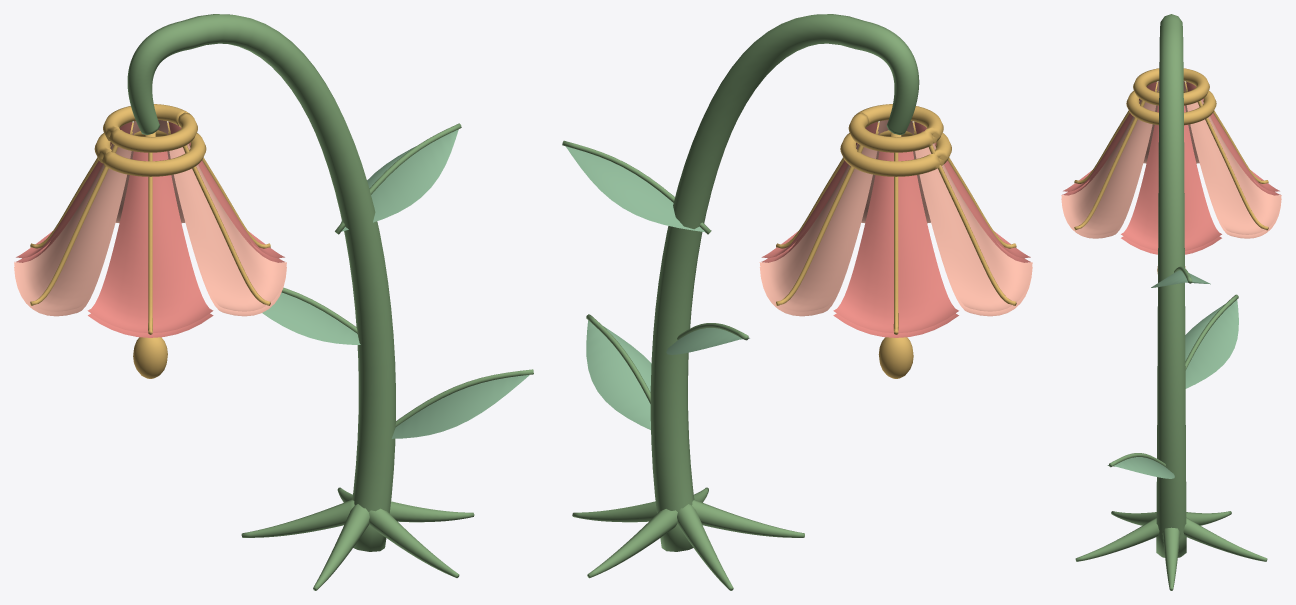
The model's file is bell-flower.glb.
3 renders of one model, left to right at view 1: azimuth 30°, elevation 25°; view 2: azimuth 150°, elevation 25°; view 3: azimuth 270°, elevation 25°, orthographic. The views are drawn at different scales.
Visible parts, largest first — view 1: Arching living stem, Flower petal 04, Flower petal 03, Flower petal 05, Stem leaf 02, Stem leaf 00, Crown collar, Stem leaf 01, Crown collar.001, Root 02, Root 04, Root 03 (+9 smaller); view 2: Arching living stem, Flower petal 02, Flower petal 03, Flower petal 01, Stem leaf 00, Stem leaf 02, Crown collar, Crown collar.001, Root 03, Root 01, Root 02, Golden clapper (+10 smaller); view 3: Arching living stem, Flower petal 05, Flower petal 01, Flower petal 00, Stem leaf 01, Crown collar, Crown collar.001, Root 01, Root 04, Root 00, Flower petal 02, Flower petal 04 (+8 smaller).
Boxes of the visible parts, left/top/right/bottom form: Arching living stem: left=127, top=14, right=395, bottom=551; Flower petal 04: left=87, top=151, right=213, bottom=337; Flower petal 03: left=14, top=144, right=131, bottom=316; Flower petal 05: left=169, top=144, right=286, bottom=316; Stem leaf 02: left=340, top=129, right=458, bottom=231; Stem leaf 00: left=391, top=374, right=529, bottom=438; Crown collar: left=103, top=104, right=197, bottom=152; Stem leaf 01: left=262, top=292, right=360, bottom=344; Crown collar.001: left=94, top=122, right=206, bottom=176; Root 02: left=241, top=499, right=354, bottom=537; Root 04: left=369, top=508, right=459, bottom=577; Root 03: left=313, top=504, right=369, bottom=590; Arching living stem: left=650, top=14, right=919, bottom=551; Flower petal 02: left=833, top=151, right=958, bottom=337; Flower petal 03: left=915, top=143, right=1032, bottom=316; Flower petal 01: left=759, top=144, right=877, bottom=316; Stem leaf 00: left=586, top=320, right=651, bottom=429; Stem leaf 02: left=566, top=146, right=705, bottom=232; Crown collar: left=848, top=104, right=943, bottom=152; Crown collar.001: left=840, top=122, right=951, bottom=176; Root 03: left=692, top=499, right=804, bottom=537; Root 01: left=587, top=509, right=677, bottom=578; Root 02: left=677, top=504, right=733, bottom=590; Golden clapper: left=878, top=337, right=913, bottom=378; Arching living stem: left=1156, top=14, right=1186, bottom=557; Flower petal 05: left=1061, top=99, right=1156, bottom=238; Flower petal 01: left=1186, top=99, right=1281, bottom=238; Flower petal 00: left=1121, top=105, right=1221, bottom=254; Stem leaf 01: left=1185, top=299, right=1238, bottom=388; Crown collar: left=1133, top=68, right=1209, bottom=105; Crown collar.001: left=1126, top=82, right=1216, bottom=125; Root 01: left=1183, top=517, right=1267, bottom=561; Root 04: left=1075, top=517, right=1159, bottom=561; Root 00: left=1162, top=527, right=1180, bottom=590; Flower petal 02: left=1186, top=81, right=1280, bottom=195; Flower petal 04: left=1062, top=81, right=1156, bottom=195.
Bounding box in the file's own units: 2.6 × 3.04 × 1.32.
